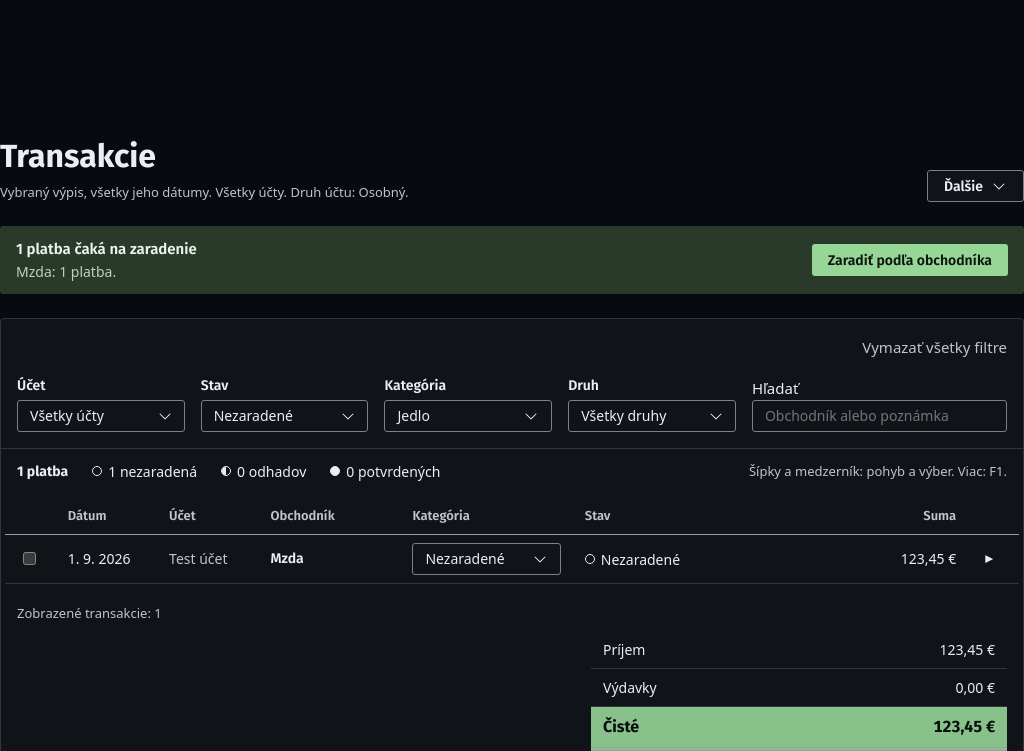
Test: transaction filters, export and sums › clear removes all filters and selection including statement and account kind
(page scrolled)
Click the checkbox named "Vybrať transakciu" at (29, 559), box [22,552,36,565]
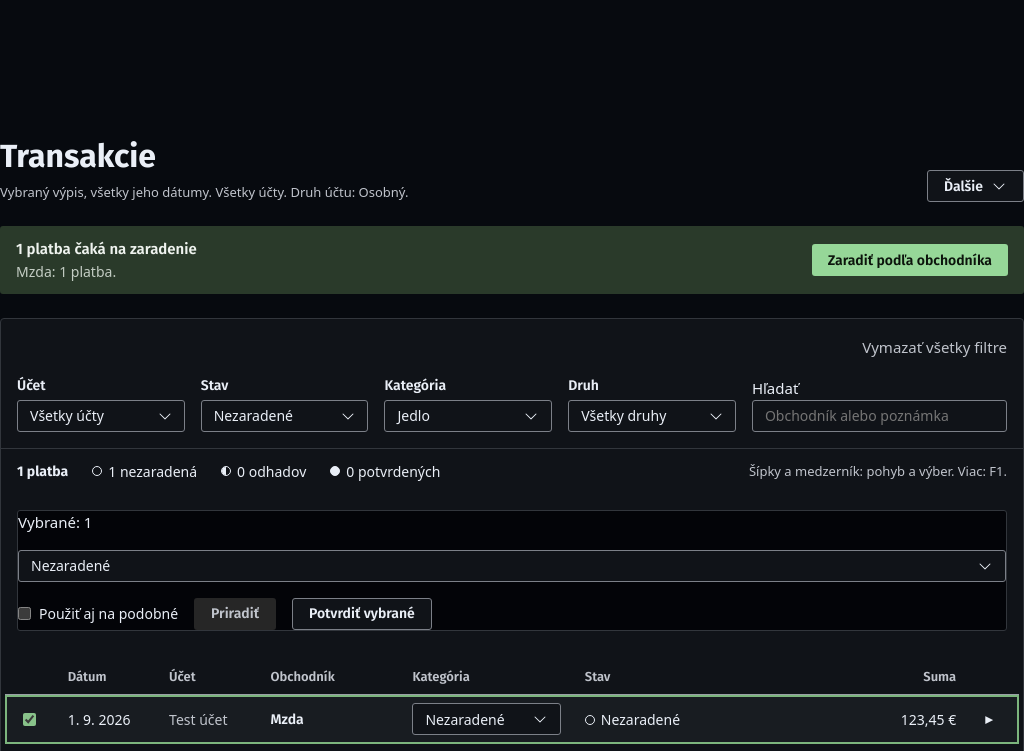
Check: the text "Vybrané: 1" is shown, box [18,511,92,534]
Click the button "Vymazať všetky filtre" at (935, 347), box [862,335,1007,359]
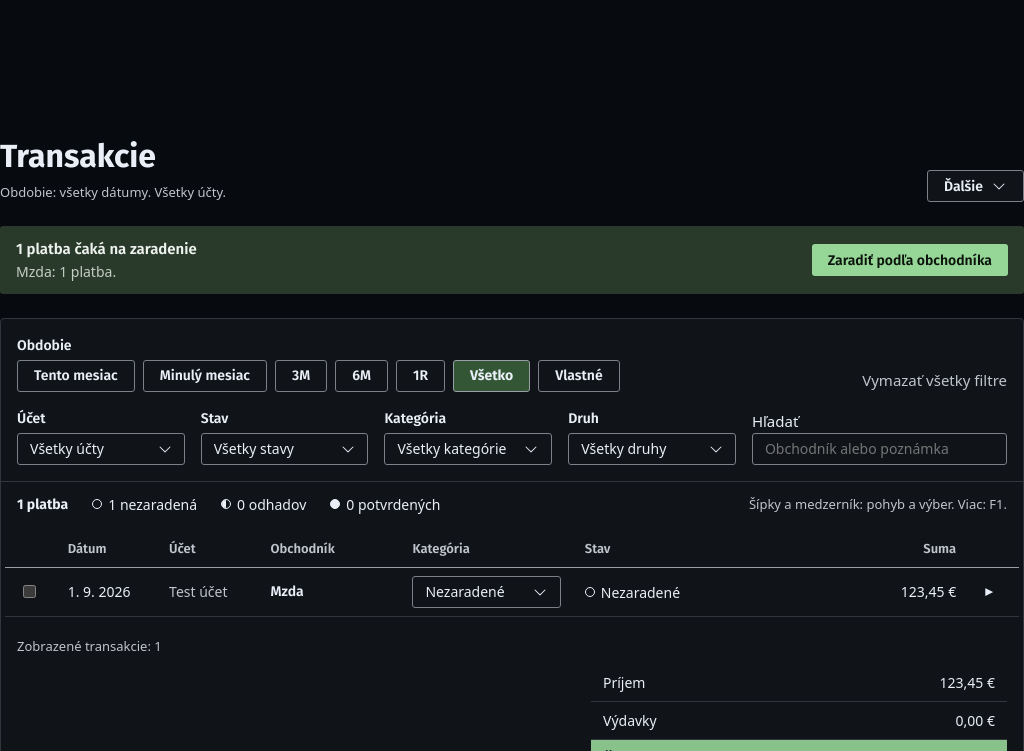
Check: the search field named "Hľadať obchodníka alebo poznámku" is empty, box [752,433,1007,465]
Check: the text "Vybrané: 1" is gone
